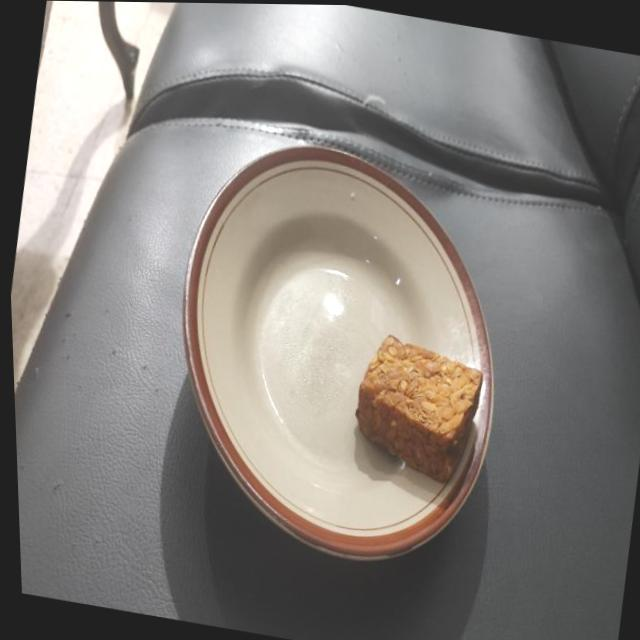tempe_goreng: (356, 335, 482, 482)
